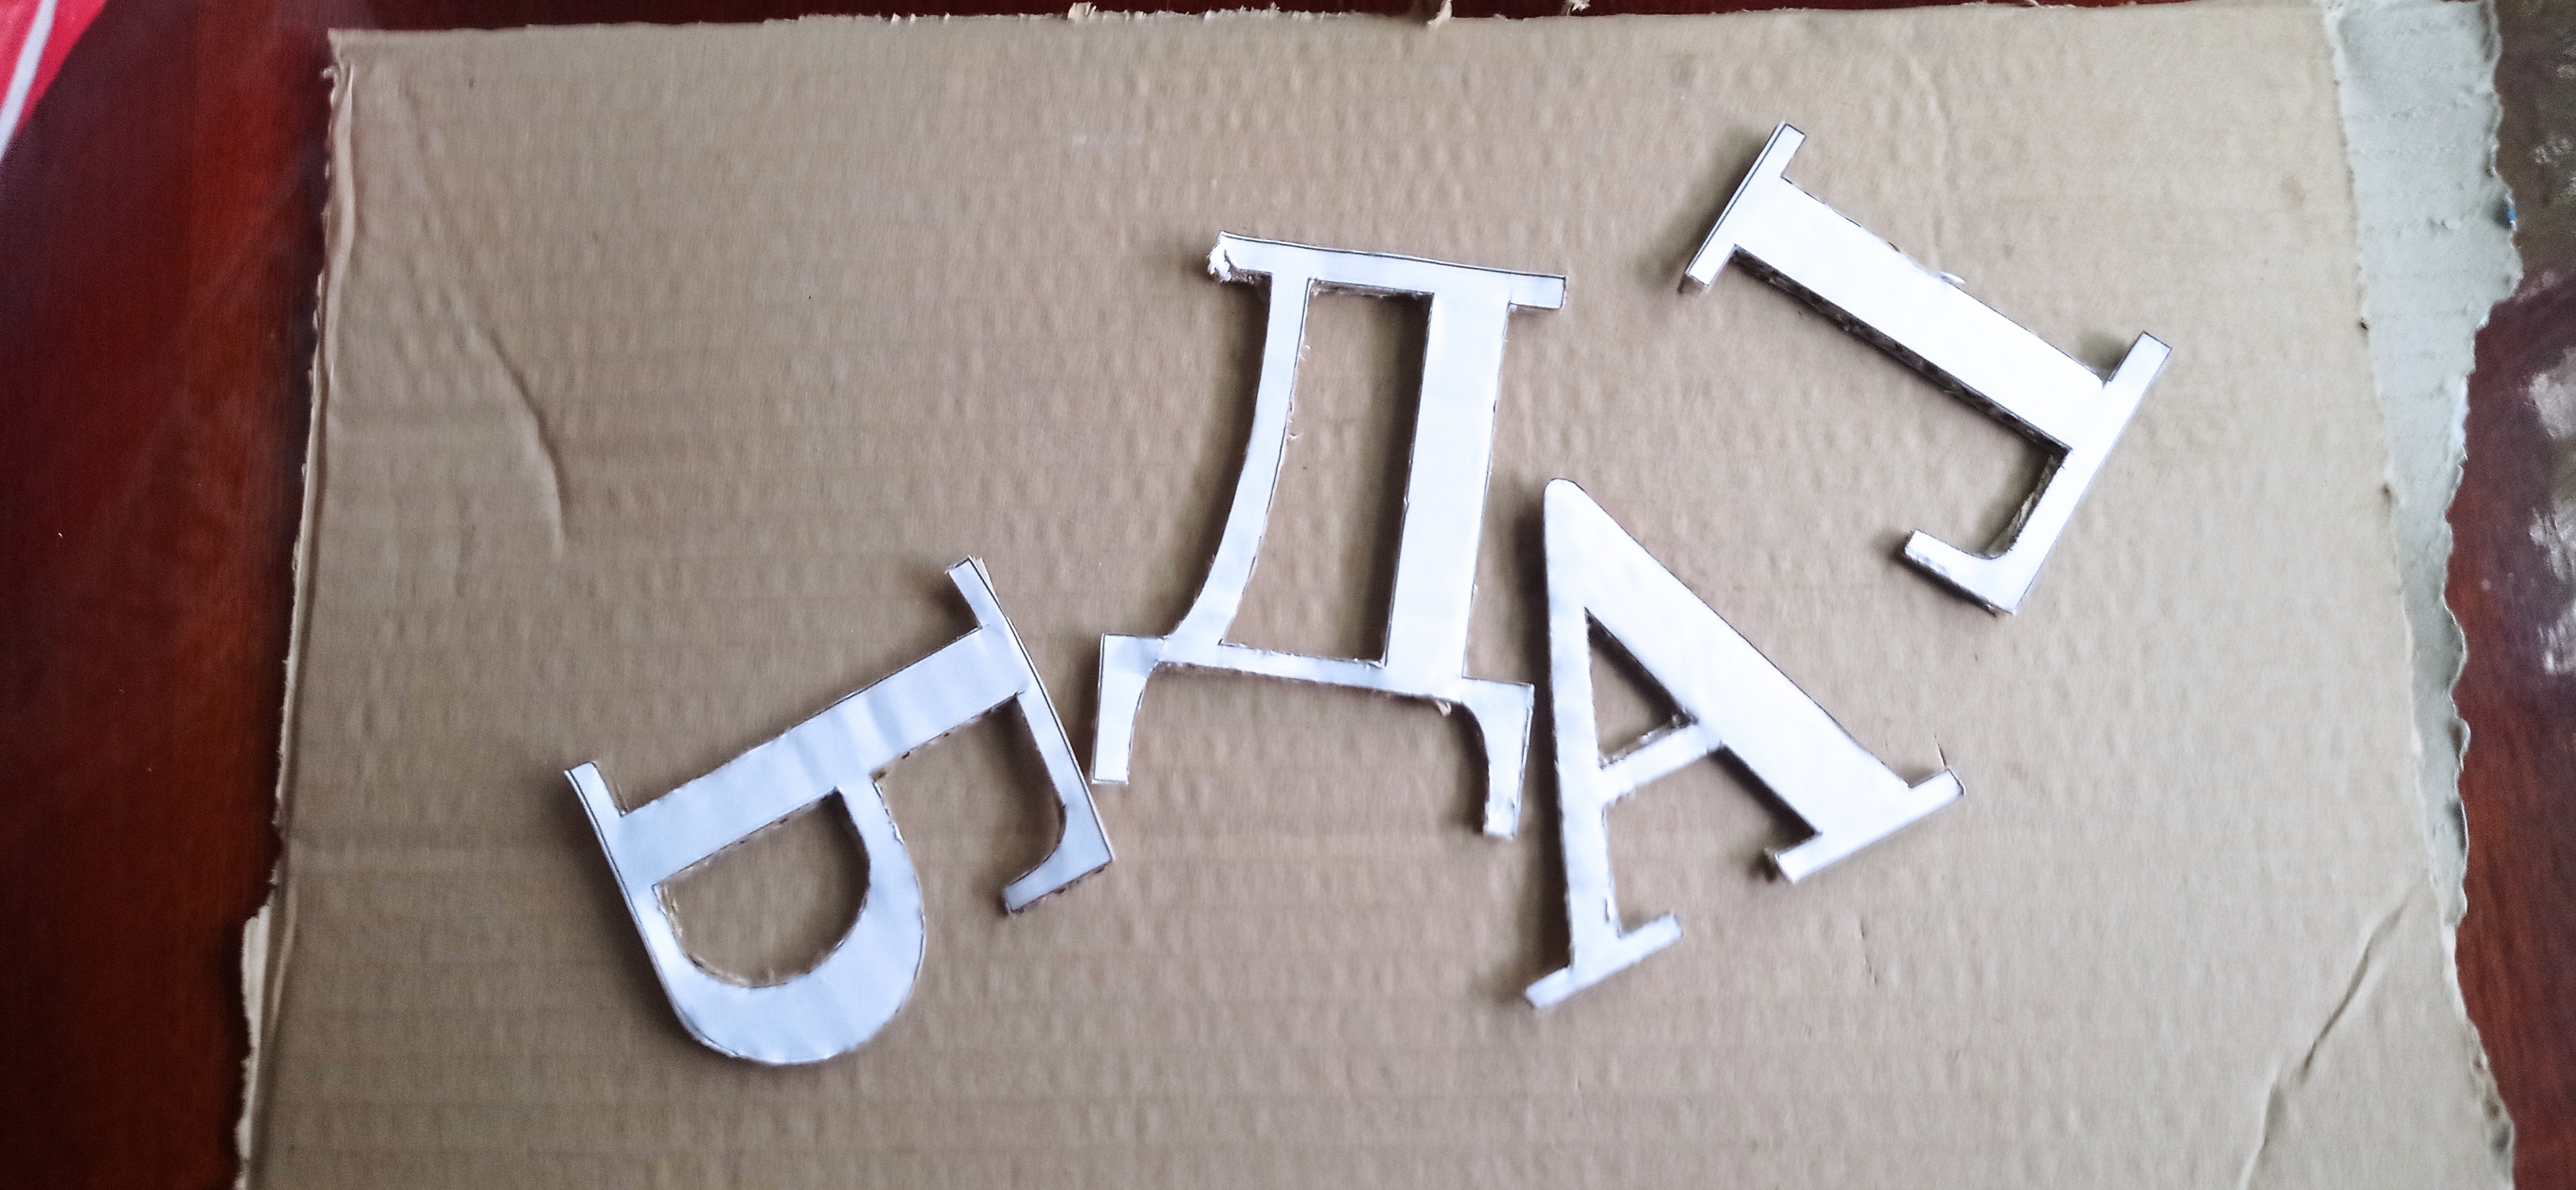a: (1526, 480, 1962, 1021)
b: (560, 556, 1114, 1072)
d: (1091, 227, 1571, 840)
g: (1682, 118, 2172, 613)
